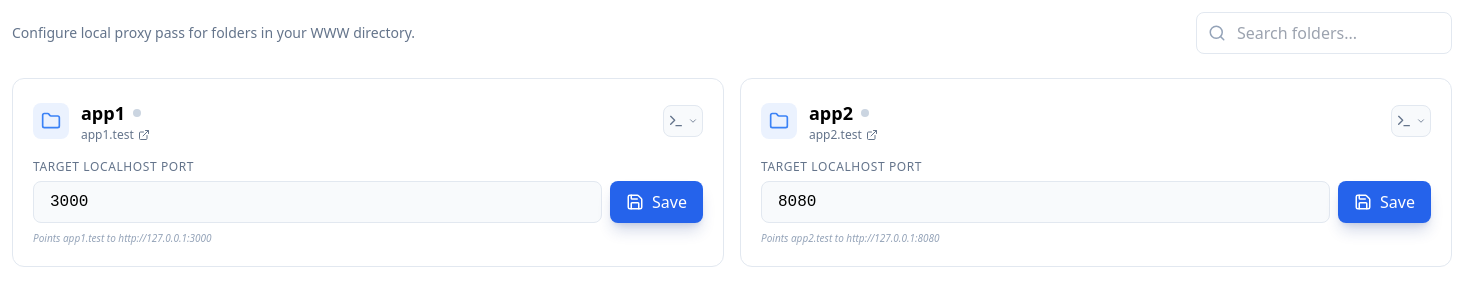
Test: ProxyTab Component › filters apps by search term
The width and height of the screenshot is (1464, 284).
Expected: the heading "app1" is shown, [81,99,125,127]
Type "app1" into the field with placeholder "Search folders..." at [1324, 33], box [1196,12,1452,54]
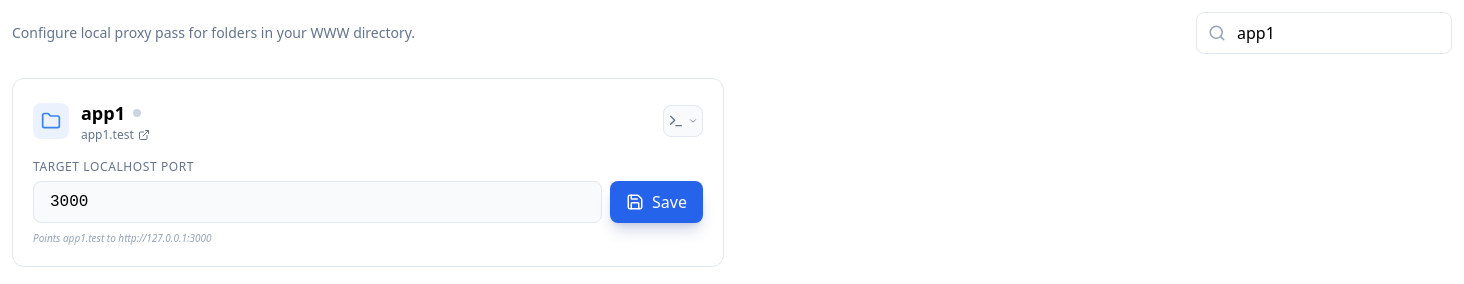
Expected: the heading "app1" is shown, [81,99,125,127]
Now the heading "app2" is gone
